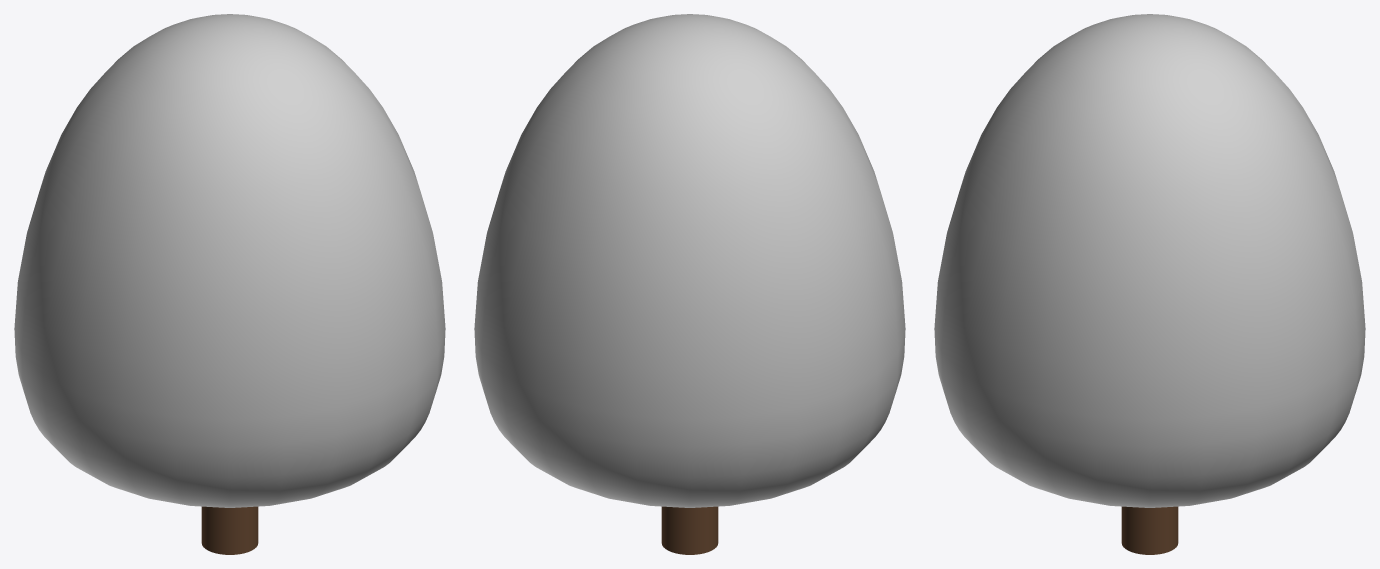
File: Frappe Snowland Tree.dae
3 views of the same model, side by side, from view 1: azimuth 30°, elevation 25°; view 2: azimuth 150°, elevation 25°; view 3: azimuth 270°, elevation 25° (orthographic).
Parts seen in each view (by area): view 1: Tree, Cylinder; view 2: Tree, Cylinder; view 3: Tree, Cylinder.
Part boxes in pixels (x1,y1,x2,y2): Tree: (14,14,445,507); Cylinder: (201,506,258,554); Tree: (474,14,905,507); Cylinder: (661,506,718,554); Tree: (934,14,1365,507); Cylinder: (1121,506,1178,554).
Size of the model in its own units: 36.57 by 48.16 by 36.57.
